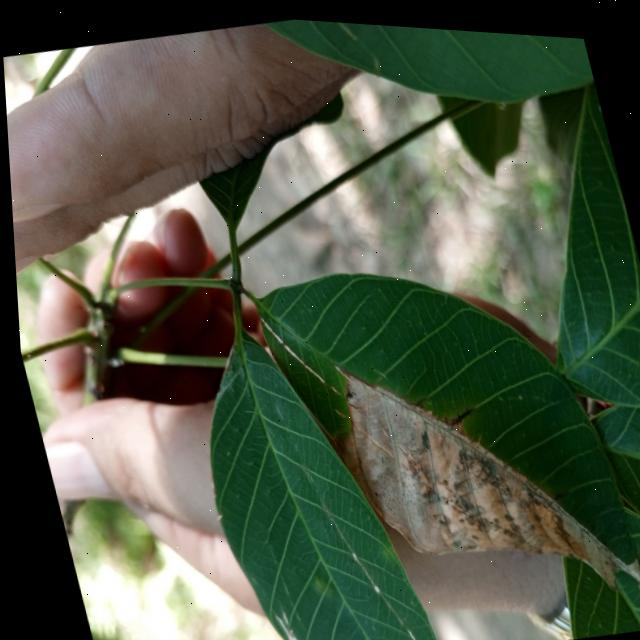Corynespora: (441, 398, 473, 423)
Leaf-Blight: (311, 316, 640, 629)
